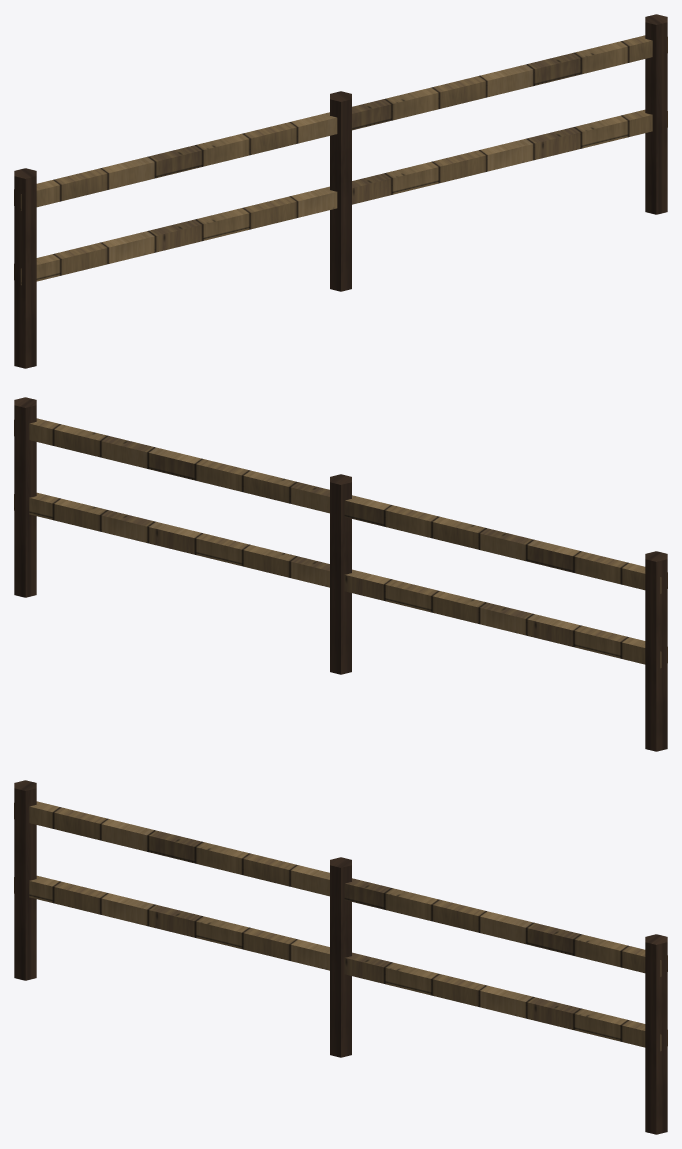
Rendered from fence_wood.gltf.
The picture shows the model from 3 angles, top to bottom: view 1: azimuth 30°, elevation 25°; view 2: azimuth 150°, elevation 25°; view 3: azimuth 330°, elevation 25°; orthographic projection.
Visible parts, largest first — view 1: fence_wood_mesh; view 2: fence_wood_mesh; view 3: fence_wood_mesh.
Boxes of the visible parts, x1,y1,x2,y2 form: fence_wood_mesh: (14,14,667,368); fence_wood_mesh: (14,397,667,751); fence_wood_mesh: (14,780,667,1134).
Size of what is drawn, in the model's own units: 4.14 by 1.15 by 0.1212.
2 materials, 2 textured.
